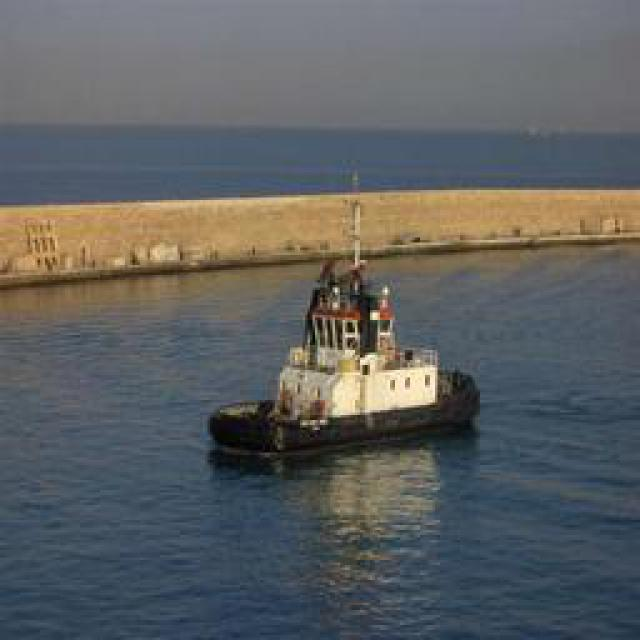Ship: (212, 247, 475, 460)
